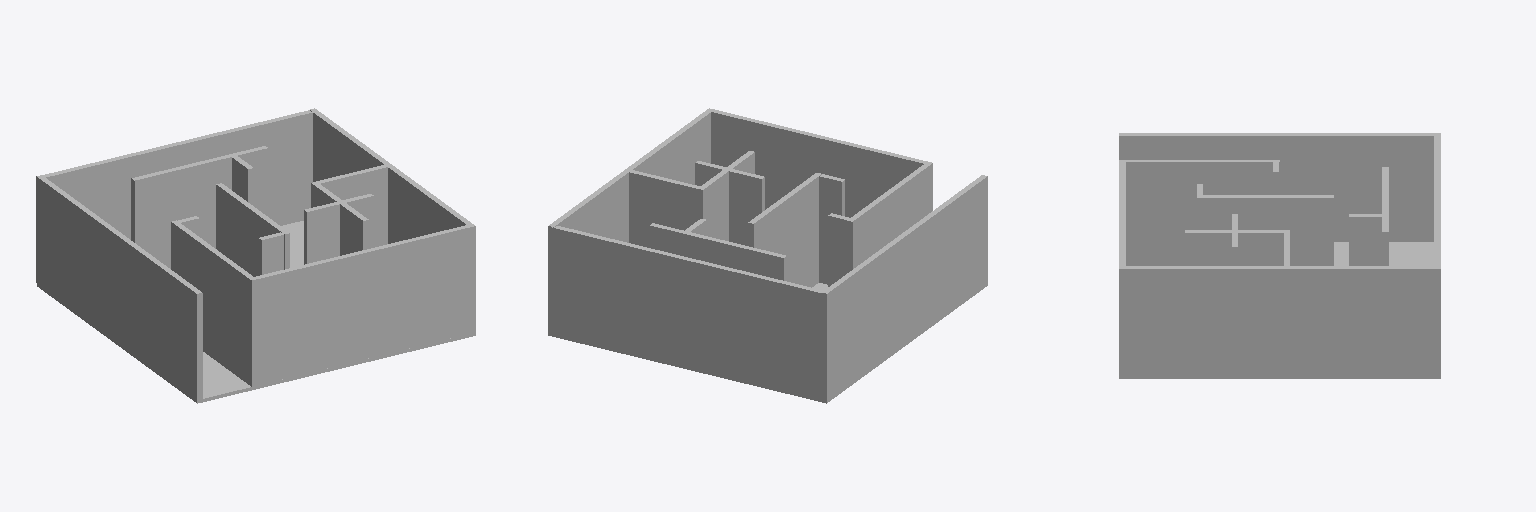
The model's file is structure_raw.obj.
3 renders of one model, left to right at view 1: azimuth 30°, elevation 25°; view 2: azimuth 150°, elevation 25°; view 3: azimuth 270°, elevation 25°, orthographic.
Parts seen in each view (by area): view 1: Cube.004, Cube.001, Cube.003, Cube.006, Cube.002, Cube.005, Cube.007, Cube, Cube.008, Cube.010, Cube.009, Cube.012 (+1 smaller); view 2: Cube.003, Cube.001, Cube.004, Cube.002, Cube.007, Cube.005, Cube.010, Cube.006, Cube.008, Cube.009, Cube.012, Cube (+1 smaller); view 3: Cube.002, Cube.001, Cube.005, Cube.007, Cube.009, Cube, Cube.013, Cube.003, Cube.004, Cube.006.
Boxes of the visible parts, box(x1,y1,x2,y2) form: Cube.004: box(249, 225, 469, 386); Cube.001: box(36, 175, 202, 399); Cube.003: box(43, 110, 312, 239); Cube.006: box(131, 146, 268, 268); Cube.002: box(310, 108, 475, 333); Cube.005: box(171, 220, 252, 384); Cube.007: box(216, 183, 289, 276); Cube: box(37, 221, 475, 403); Cube.008: box(304, 194, 373, 264); Cube.010: box(316, 165, 387, 247); Cube.009: box(311, 182, 368, 255); Cube.012: box(258, 232, 283, 275); Cube.003: box(551, 226, 823, 399); Cube.001: box(822, 175, 987, 399); Cube.004: box(711, 110, 932, 217); Cube.002: box(548, 108, 714, 332); Cube.007: box(748, 173, 821, 287); Cube.005: box(847, 164, 929, 272); Cube.010: box(629, 170, 700, 247); Cube.006: box(650, 223, 786, 280); Cube.008: box(695, 161, 764, 245); Cube.009: box(698, 151, 754, 240); Cube.012: box(819, 174, 844, 284); Cube: box(548, 283, 987, 403); Cube.002: box(1119, 266, 1440, 375); Cube.001: box(1119, 133, 1440, 241); Cube.005: box(1125, 160, 1279, 265); Cube.007: box(1197, 195, 1333, 265); Cube.009: box(1185, 230, 1289, 265); Cube: box(1119, 242, 1440, 378); Cube.013: box(1349, 214, 1381, 265); Cube.003: box(1434, 136, 1440, 265); Cube.004: box(1119, 160, 1125, 265); Cube.006: box(1382, 167, 1388, 265).
Bounding box in the file's own units: 20.02 × 7.54 × 20.02.